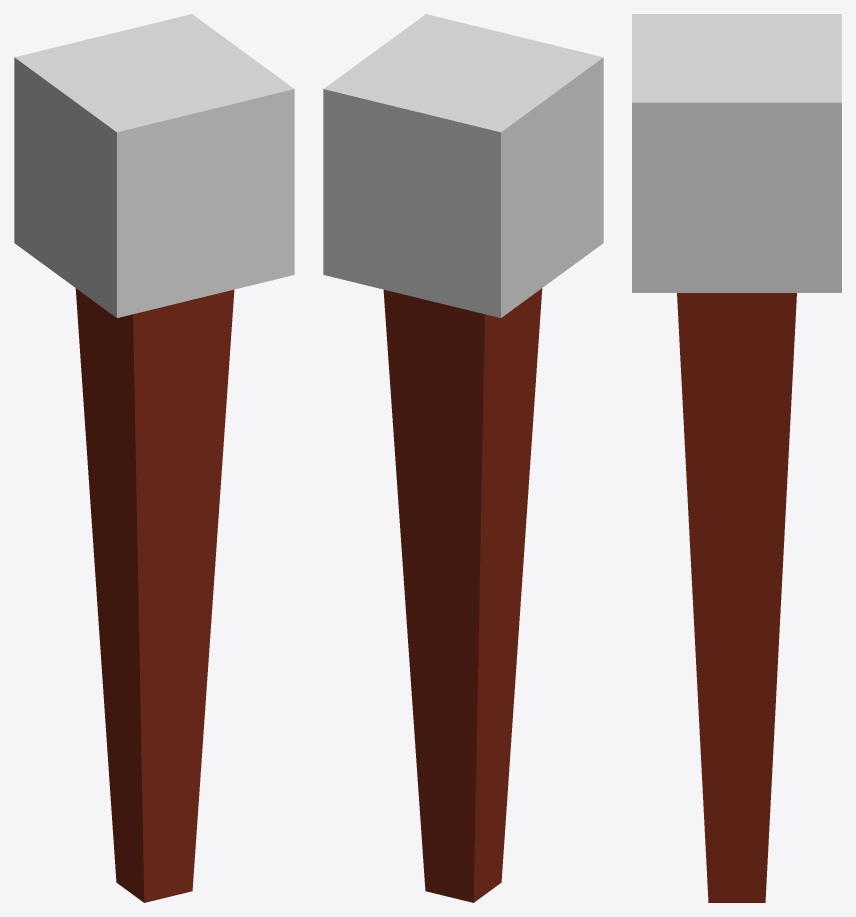
The model's file is LightTorch.fbx.
The picture shows the model from 3 angles, left to right: view 1: azimuth 30°, elevation 25°; view 2: azimuth 150°, elevation 25°; view 3: azimuth 270°, elevation 25°; orthographic projection. The views are drawn at different scales.
Visible parts, largest first — view 1: Cube.012, Cube.011; view 2: Cube.012, Cube.011; view 3: Cube.012, Cube.011.
Boxes of the visible parts, x1=… form: Cube.012: x1=14, y1=14, x2=294, y2=317; Cube.011: x1=75, y1=288, x2=234, y2=902; Cube.012: x1=323, y1=14, x2=603, y2=317; Cube.011: x1=383, y1=288, x2=542, y2=902; Cube.012: x1=632, y1=14, x2=841, y2=292; Cube.011: x1=677, y1=293, x2=796, y2=902.
Bounding box in the file's own units: 62.46 × 273 × 62.46.
